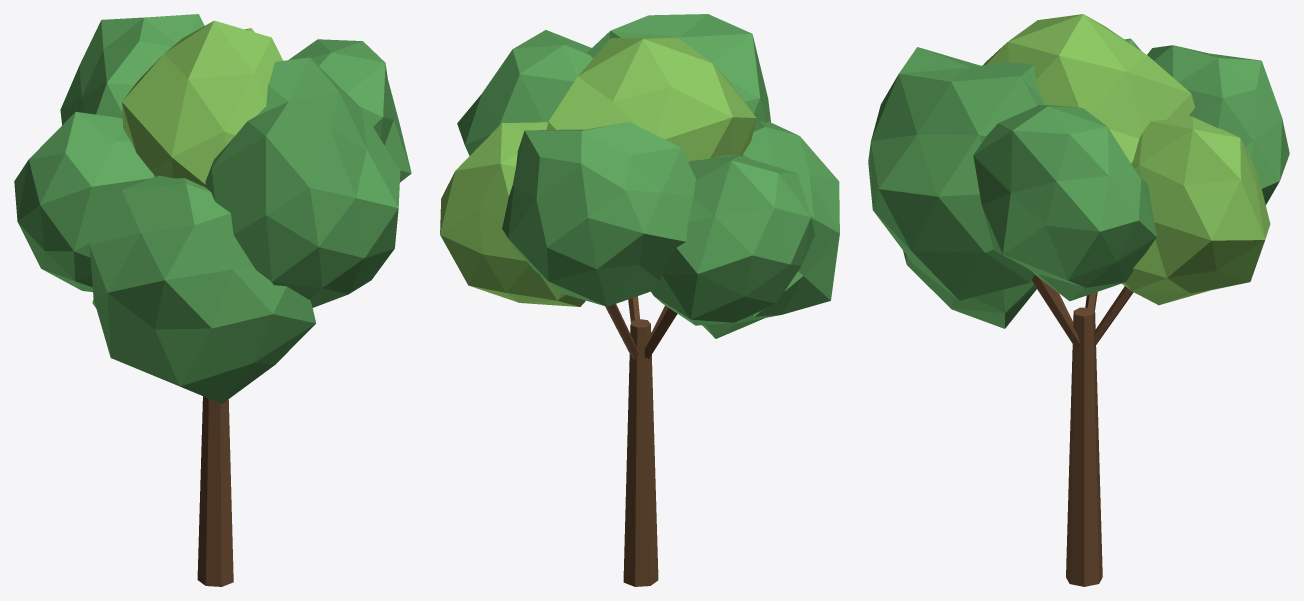
The model's file is sapling.glb.
3 renders of one model, left to right at view 1: azimuth 30°, elevation 25°; view 2: azimuth 150°, elevation 25°; view 3: azimuth 270°, elevation 25°, orthographic. The views are drawn at different scales.
Visible parts, largest first — view 1: tree; view 2: tree; view 3: tree.
Part boxes in pixels (bbox=[...]): tree: bbox=[14, 14, 411, 586]; tree: bbox=[440, 14, 839, 586]; tree: bbox=[868, 14, 1289, 586].
Size of the model in its own units: 2.12 by 3.17 by 2.15.
